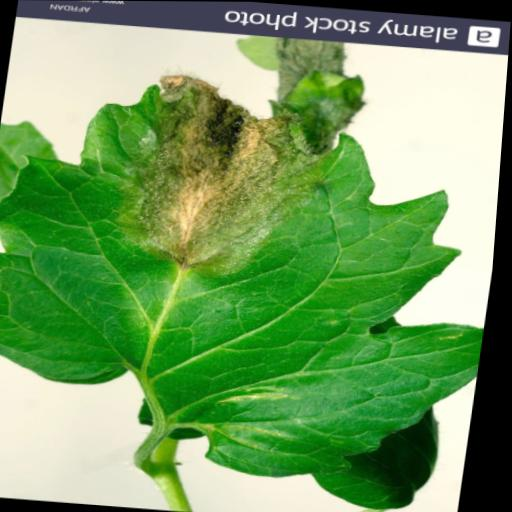Leaf Mold: (0, 14, 511, 504)
